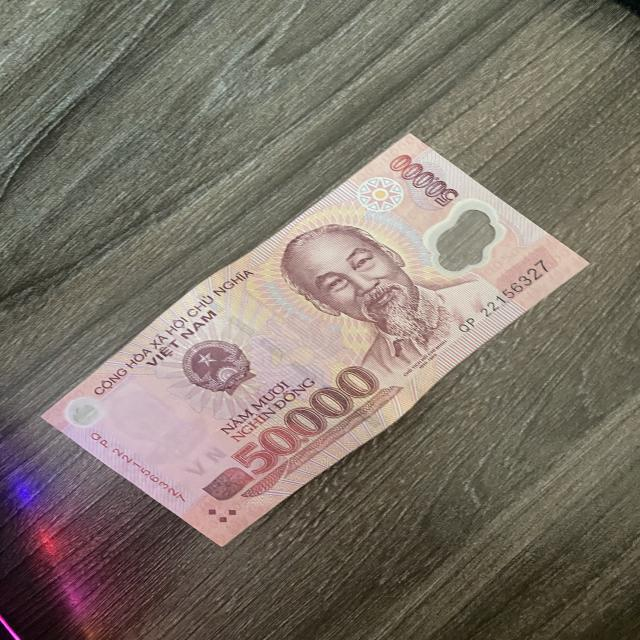50 000 VND: (38, 131, 592, 550)
